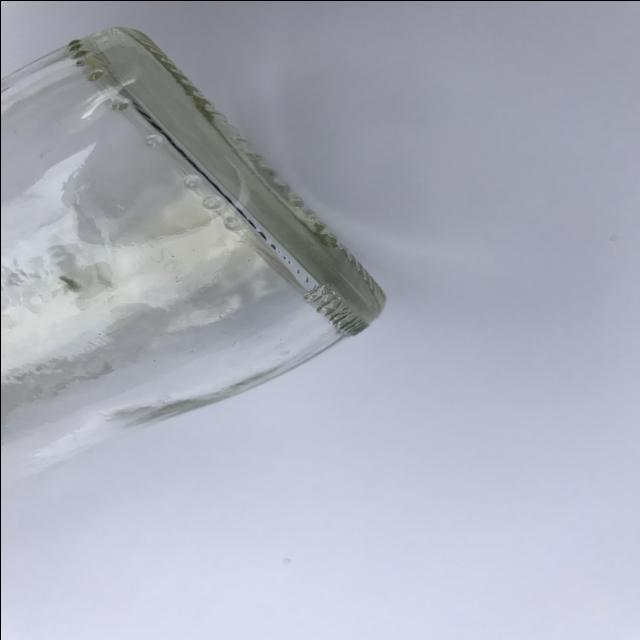glass: (0, 0, 444, 497)
